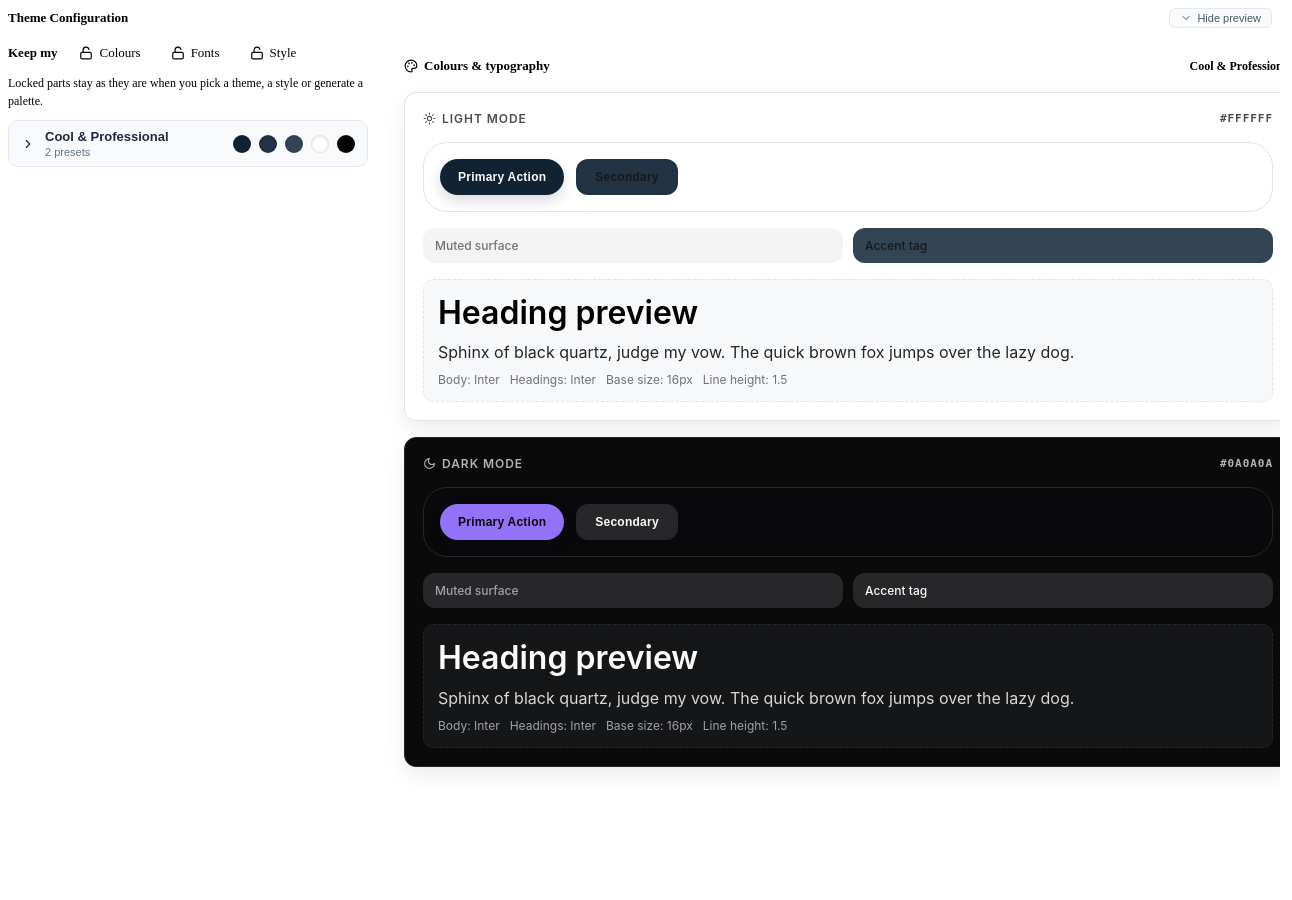
ThemePreviewField › renders theme options with color swatches
Click the button with aria-label "choose a preset" at (107, 136), box [8,120,368,167]
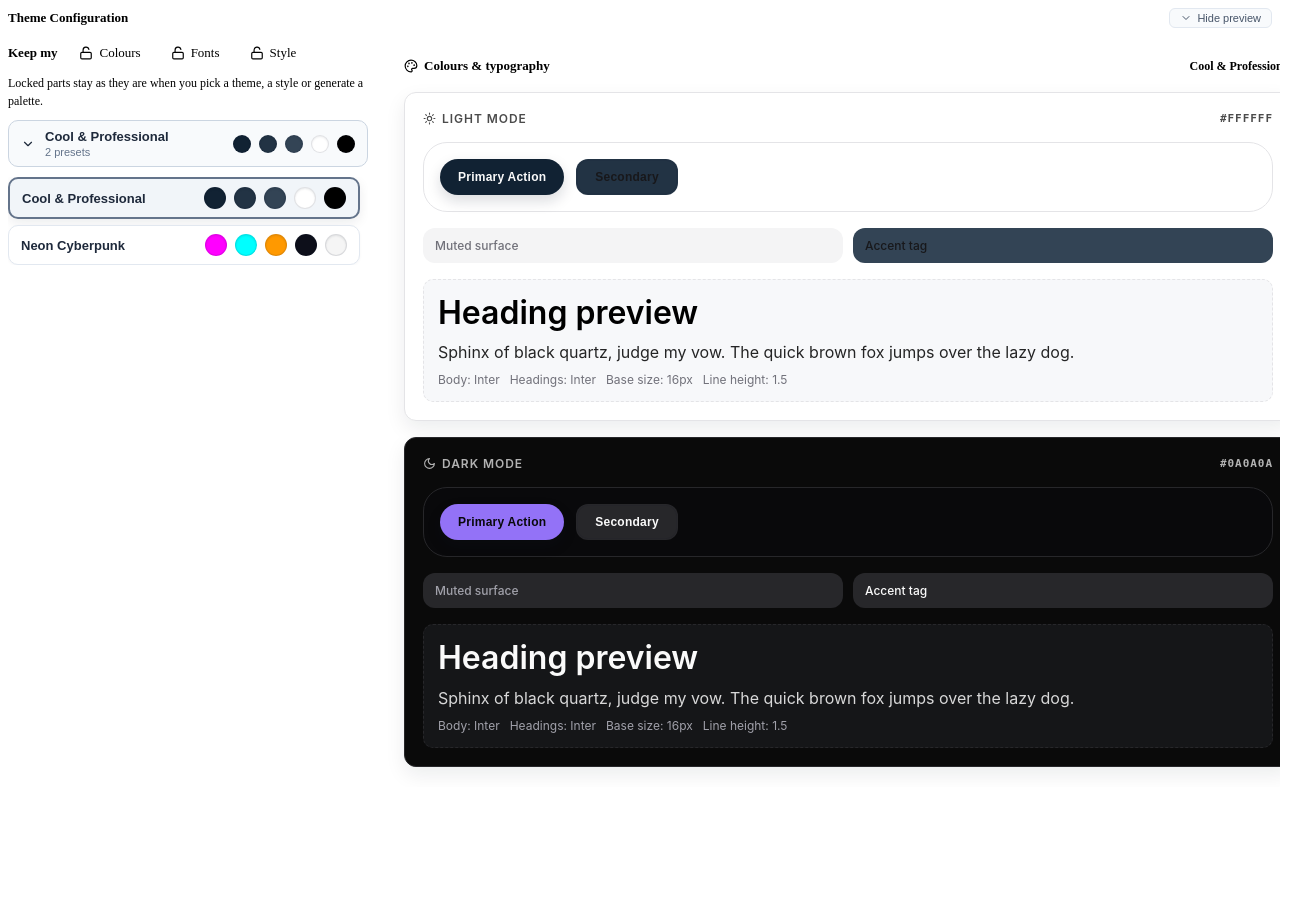
Check: the button "Cool & Professional" is shown, box [8,177,360,219]
Check: the button "Neon Cyberpunk" is shown, box [8,225,360,265]
